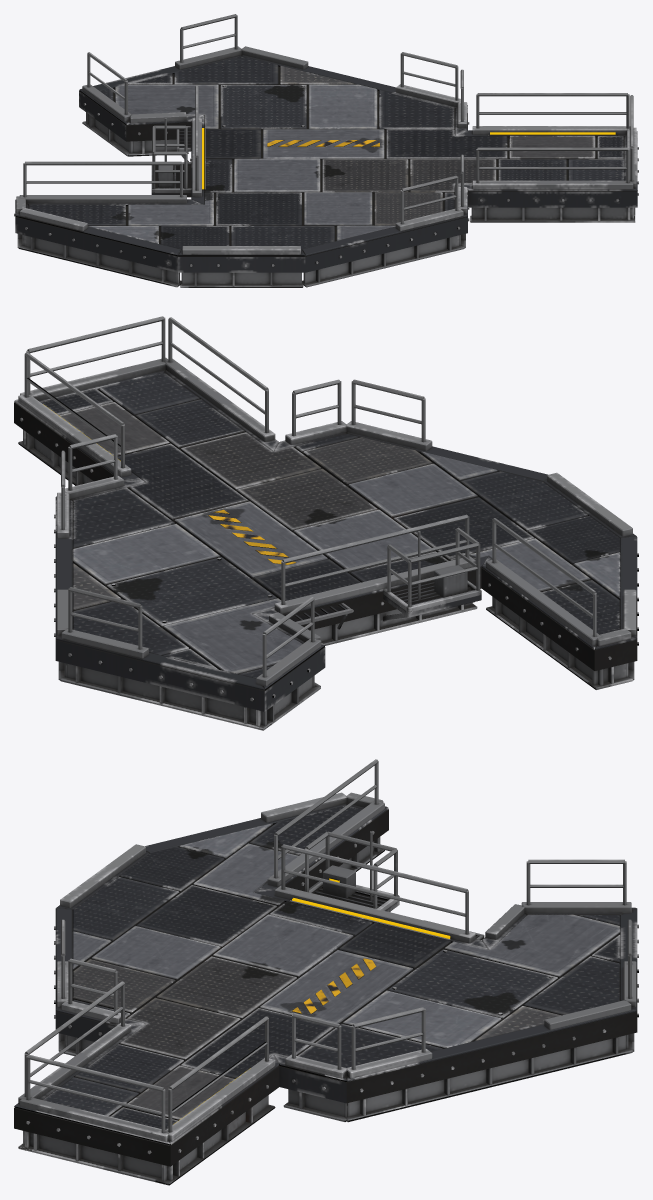
The model's file is nodexeus-set-deck-m3.glb.
The picture shows the model from 3 angles, top to bottom: view 1: azimuth 30°, elevation 25°; view 2: azimuth 150°, elevation 25°; view 3: azimuth 270°, elevation 25°; orthographic projection. The views are drawn at different scales.
Visible parts, largest first — view 1: set-deck-m3; view 2: set-deck-m3; view 3: set-deck-m3.
Boxes of the visible parts, left/top/right/bottom form: set-deck-m3: left=14, top=14, right=638, bottom=287; set-deck-m3: left=14, top=316, right=638, bottom=730; set-deck-m3: left=14, top=759, right=638, bottom=1185.
Bounding box in the file's own units: 14.54 × 2.13 × 11.06.
1 material, 1 textured.
